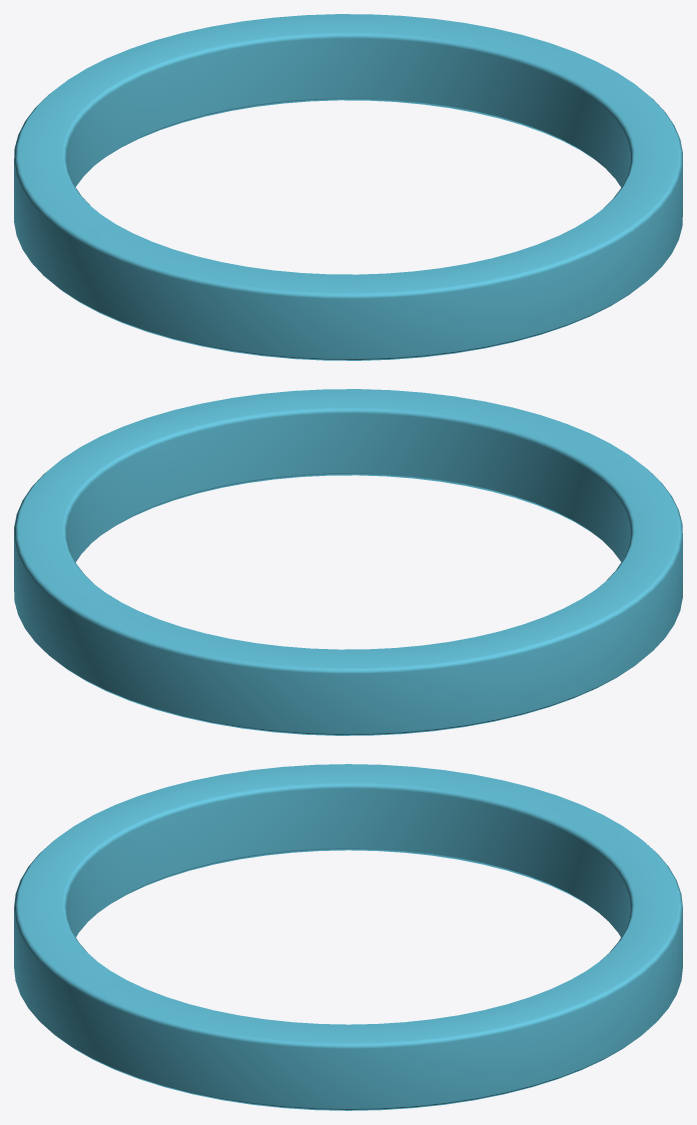
3 views of the same model, one above another, from view 1: azimuth 30°, elevation 25°; view 2: azimuth 150°, elevation 25°; view 3: azimuth 270°, elevation 25° (orthographic).
Parts seen in each view (by area): view 1: seal_body; view 2: seal_body; view 3: seal_body.
Boxes of the visible parts, x1,y1,x2,y2 form: seal_body: (14,14,682,360); seal_body: (14,389,682,735); seal_body: (14,764,682,1110).
Size of the model in its own units: 0.0603 by 0.00675 by 0.0603.
